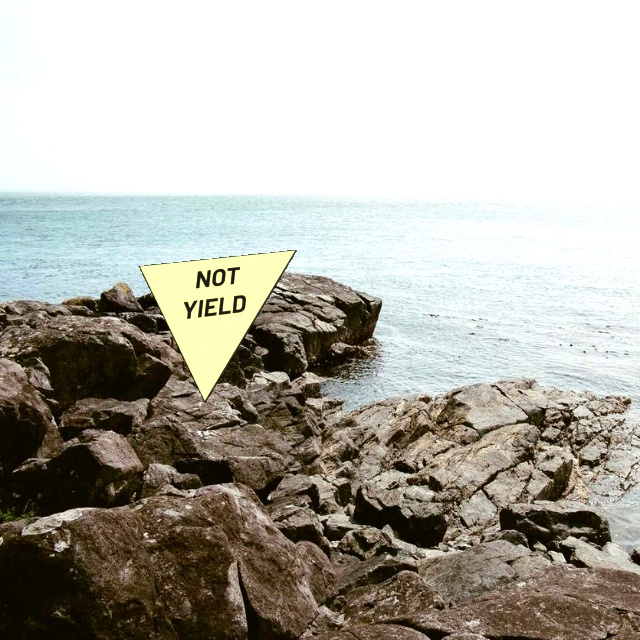NOT_YIELD: (138, 249, 297, 403)
